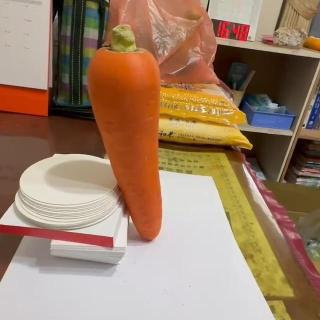carrot: (89, 23, 164, 241)
